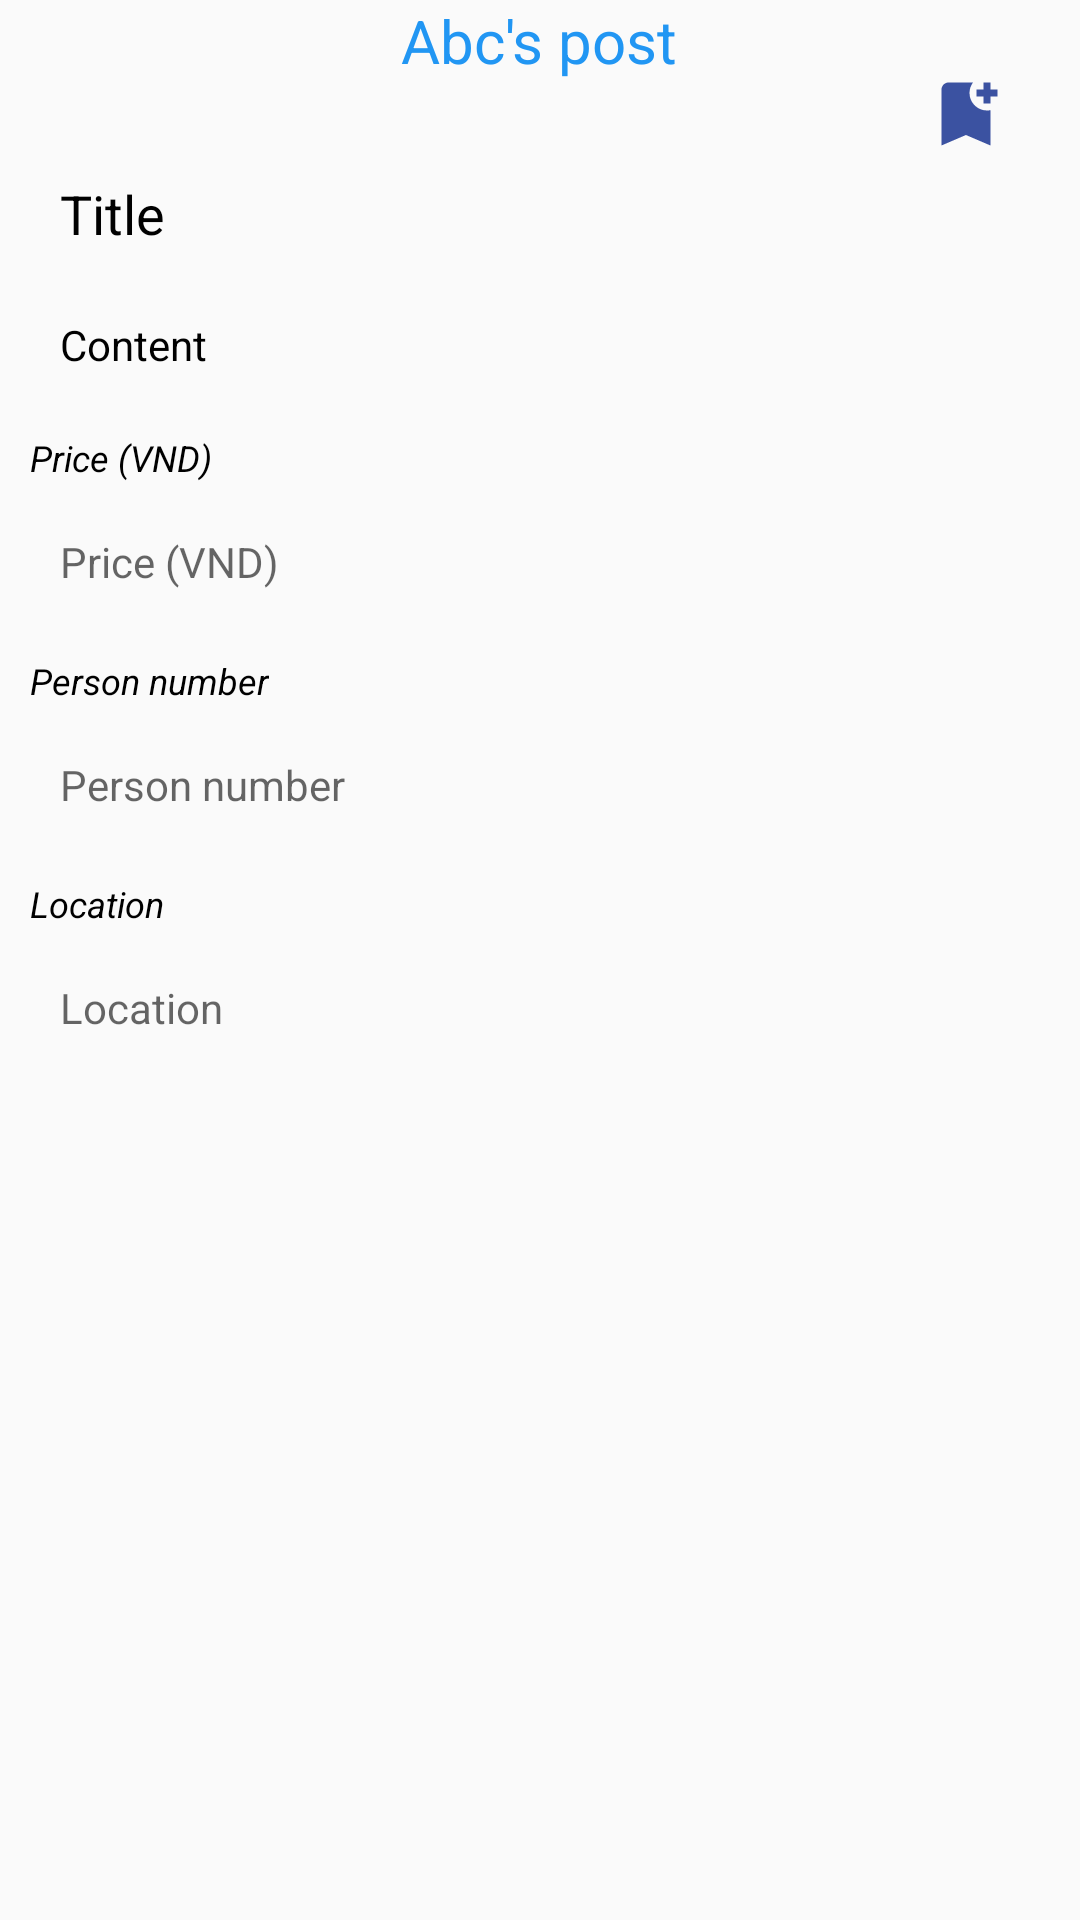

Screen size 1080x1920. Icon name, then its center in pixels as (x,y):
bookmark: (969,114)
